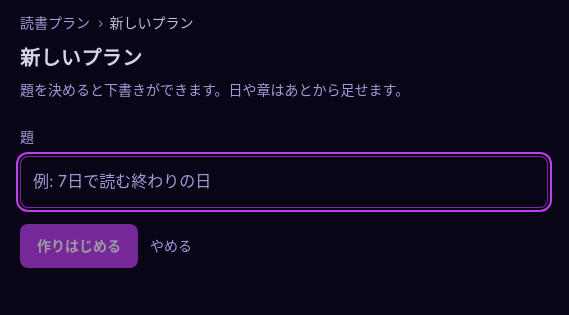
Scenario: 読書プランの新規作成 › 作成失敗を入力欄に関連付けたエラーとして示す
The width and height of the screenshot is (569, 315).
Step 1. Type "福音書を読む" into the field labelled "題" → (284, 182), box left=20, top=156, right=548, bottom=208
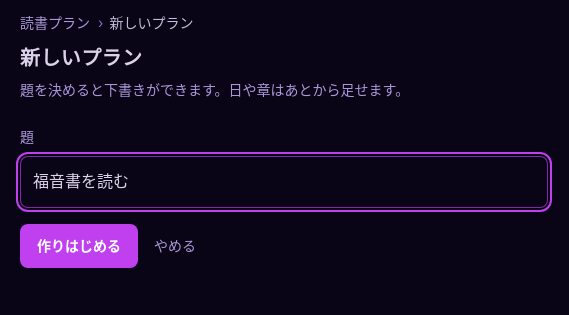
Step 2. Click the button "作りはじめる" → (79, 246), box left=20, top=224, right=138, bottom=268
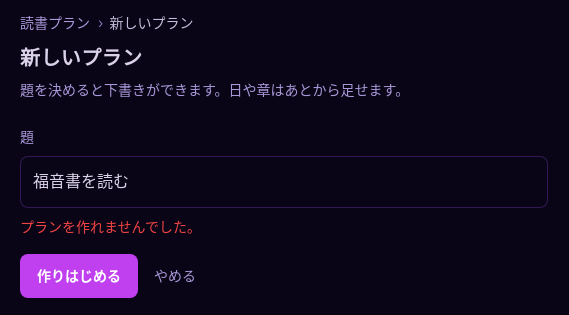
Now the message shows "プランを作れませんでした", box left=20, top=218, right=201, bottom=235
